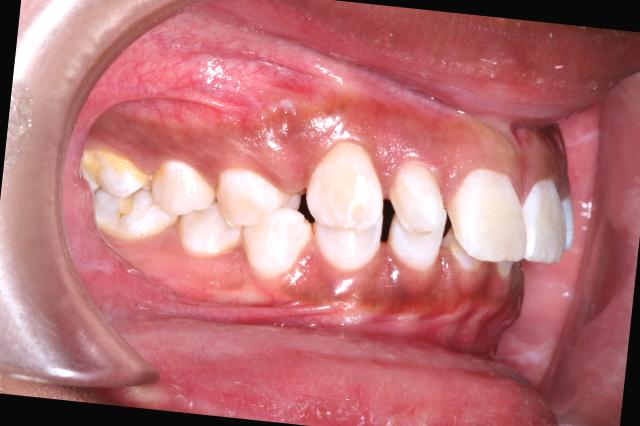canine class II 1/2: (237, 119, 399, 305)
molar class I: (64, 127, 185, 252)
